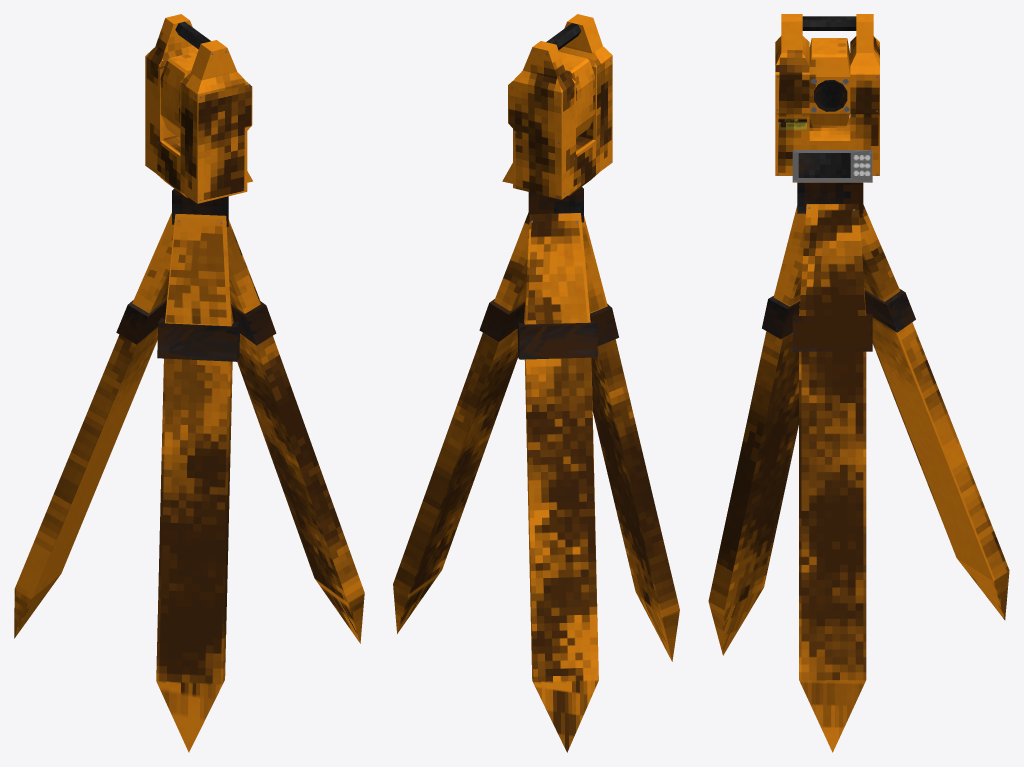
Rendered from Camera.glb.
3 views of the same model, side by side, from view 1: azimuth 30°, elevation 25°; view 2: azimuth 150°, elevation 25°; view 3: azimuth 270°, elevation 25° (orthographic). The views are drawn at different scales.
Visible parts, largest first — view 1: pCube9; view 2: pCube9; view 3: pCube9.
Boxes of the visible parts, x1,y1,x2,y2 form: pCube9: (14,14,364,752); pCube9: (393,14,679,752); pCube9: (708,14,1009,752).
Bounding box in the file's own units: 1.45 × 3.34 × 1.37.
1 material, 1 textured.
